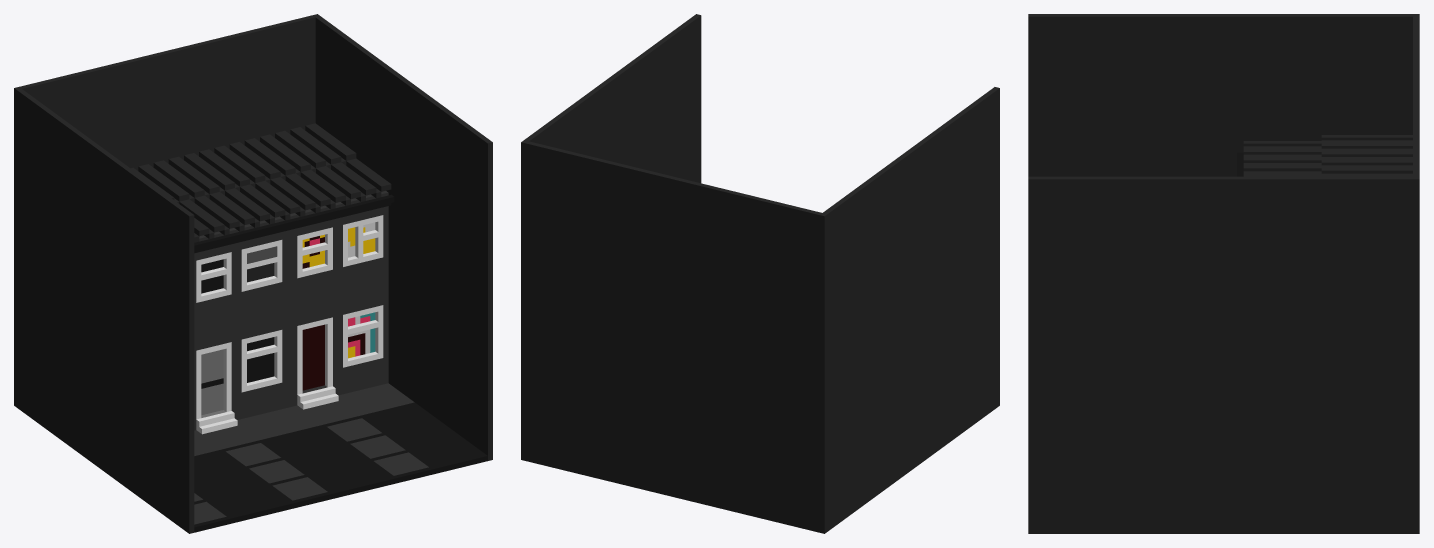
Rendered from favorite worst nightmare.obj.
3 views of the same model, side by side, from view 1: azimuth 30°, elevation 25°; view 2: azimuth 150°, elevation 25°; view 3: azimuth 270°, elevation 25° (orthographic). The views are drawn at different scales.
Size of the model in its own units: 6 by 6 by 6.
1 material, 1 textured.
